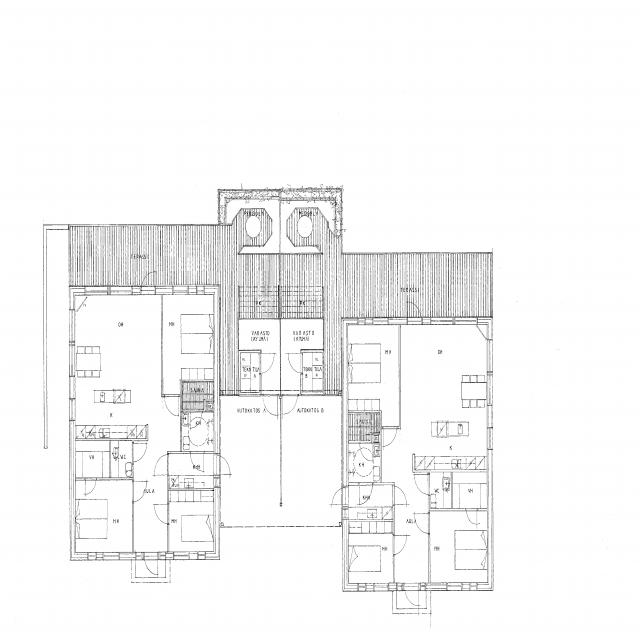door: (214, 455, 234, 474), (144, 552, 158, 578), (263, 394, 278, 417), (142, 268, 154, 295), (132, 482, 148, 502), (259, 353, 275, 373), (190, 451, 204, 473), (153, 455, 169, 474), (154, 504, 169, 523), (132, 443, 147, 462), (165, 395, 178, 416), (85, 477, 96, 495), (191, 411, 202, 429)
